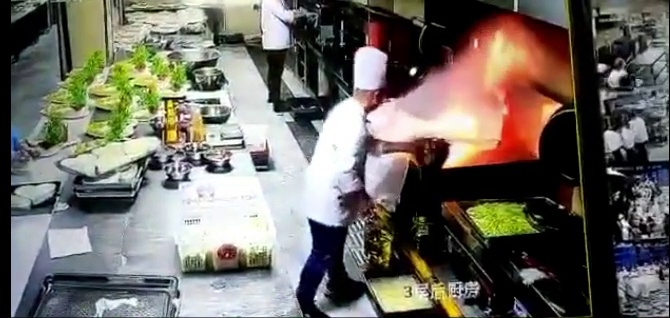fire: (440, 31, 524, 157)
